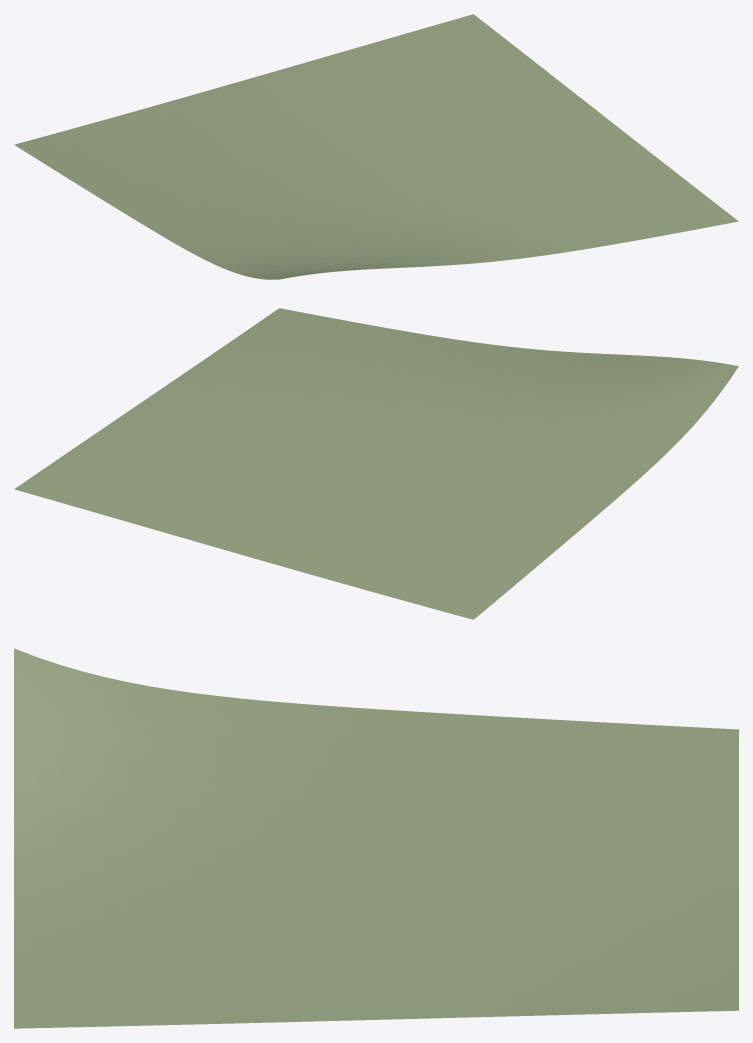
The model's file is canyon-4-1.glb.
The picture shows the model from 3 angles, top to bottom: view 1: azimuth 30°, elevation 25°; view 2: azimuth 150°, elevation 25°; view 3: azimuth 270°, elevation 25°; orthographic projection. The views are drawn at different scales.
Visible parts, largest first — view 1: canyon-4-1; view 2: canyon-4-1; view 3: canyon-4-1.
Part boxes in pixels (x1,y1,x2,y2): canyon-4-1: (14,14,738,279); canyon-4-1: (14,308,738,619); canyon-4-1: (14,648,738,1028).
Size of the model in its own units: 128 by 15.81 by 128.
